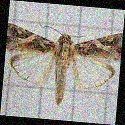Spodoptera litura: (5, 17, 121, 107)
